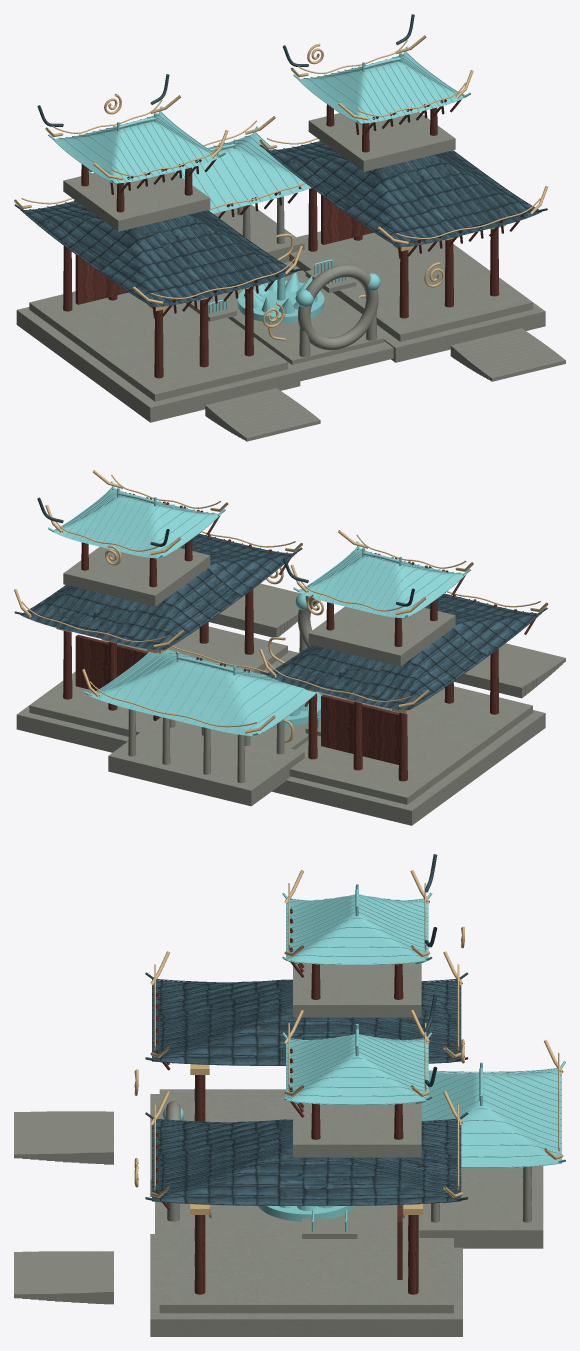
File: QY-GEOGRAPHY-001-R66-region-05-native.glb
3 views of the same model, one above another, from view 1: azimuth 30°, elevation 25°; view 2: azimuth 150°, elevation 25°; view 3: azimuth 270°, elevation 25° (orthographic). The views are drawn at different scales.
Visible parts, largest first — view 1: 05_RIGHT_LARGE_CELADON_CURVED_ROOF_CURVED_CELADON_ROOF_REAL_, 05_LEFT_LARGE_CELADON_CURVED_ROOF_CURVED_CELADON_ROOF_REAL_T, 05_WING_CARVED_COURT_TERRACE, 05_WING_CARVED_COURT_TERRACE.001, 05_UPPER_JADE_SKY_PAVILION_TILED_EAVES_CURVED_CELADON_ROOF_R (×2), 05_WING_IVORY_HIPPED_STONE_FOUNDATION.001, 05_UPPER_STUDIO_IVORY_BALCONY.001, 05_REAR_ARCHIVE_JADE_BLUE_CROSSED_HIP_ROOF_CURVED_CELADON_RO, 05_UPPER_STUDIO_IVORY_BALCONY, 05_COURT_WHITE_STONE_PERIMETER, 05_WING_IVORY_HIPPED_STONE_FOUNDATION, 05_GENUINE_OPEN_STONE_MOON_GATE_FRONT (+15 smaller); view 2: 05_UPPER_JADE_SKY_PAVILION_TILED_EAVES_CURVED_CELADON_ROOF_R (×2), 05_WING_CARVED_COURT_TERRACE, 05_LEFT_LARGE_CELADON_CURVED_ROOF_CURVED_CELADON_ROOF_REAL_T, 05_RIGHT_LARGE_CELADON_CURVED_ROOF_CURVED_CELADON_ROOF_REAL_, 05_REAR_ARCHIVE_JADE_BLUE_CROSSED_HIP_ROOF_CURVED_CELADON_RO, 05_SOUTH_ARCHIVE_STONE_PODIUM, 05_WING_CARVED_COURT_TERRACE.001, 05_WING_IVORY_HIPPED_STONE_FOUNDATION.001, 05_UPPER_STUDIO_IVORY_BALCONY, 05_UPPER_STUDIO_IVORY_BALCONY.001, 05_WING_RECESSED_WOODEN_BACK_WALL.001, 05_WING_IVORY_HIPPED_STONE_FOUNDATION (+11 smaller); view 3: 05_WING_CARVED_COURT_TERRACE.001, 05_RIGHT_LARGE_CELADON_CURVED_ROOF_CURVED_CELADON_ROOF_REAL_, 05_UPPER_JADE_SKY_PAVILION_TILED_EAVES_CURVED_CELADON_ROOF_R (×2), 05_LEFT_LARGE_CELADON_CURVED_ROOF_CURVED_CELADON_ROOF_REAL_T, 05_REAR_ARCHIVE_JADE_BLUE_CROSSED_HIP_ROOF_CURVED_CELADON_RO, 05_WING_IVORY_HIPPED_STONE_FOUNDATION, 05_SOUTH_ARCHIVE_STONE_PODIUM, 05_UPPER_STUDIO_IVORY_BALCONY.001, 05_UPPER_STUDIO_IVORY_BALCONY, 05_COURT_WHITE_STONE_PERIMETER, 05_WING_CARVED_COURT_TERRACE, 05_GARDEN_ACTUAL_STONE_WALKWAY.001 (+3 smaller).
Part boxes in pixels (x1,y1,x2,y2): 05_RIGHT_LARGE_CELADON_CURVED_ROOF_CURVED_CELADON_ROOF_REAL_: (269, 141, 541, 247); 05_LEFT_LARGE_CELADON_CURVED_ROOF_CURVED_CELADON_ROOF_REAL_T: (24, 201, 295, 306); 05_WING_CARVED_COURT_TERRACE: (29, 291, 287, 401); 05_WING_CARVED_COURT_TERRACE.001: (289, 231, 532, 341); 05_UPPER_JADE_SKY_PAVILION_TILED_EAVES_CURVED_CELADON_ROOF_R (×2): (54, 53, 466, 183); 05_WING_IVORY_HIPPED_STONE_FOUNDATION.001: (16, 307, 300, 422); 05_UPPER_STUDIO_IVORY_BALCONY.001: (308, 112, 455, 171); 05_REAR_ARCHIVE_JADE_BLUE_CROSSED_HIP_ROOF_CURVED_CELADON_RO: (174, 133, 311, 213); 05_UPPER_STUDIO_IVORY_BALCONY: (63, 172, 210, 231); 05_COURT_WHITE_STONE_PERIMETER: (217, 274, 384, 364); 05_WING_IVORY_HIPPED_STONE_FOUNDATION: (283, 253, 545, 362); 05_GENUINE_OPEN_STONE_MOON_GATE_FRONT: (298, 264, 378, 350); 05_UPPER_JADE_SKY_PAVILION_TILED_EAVES_CURVED_CELADON_ROOF_R (×2): (53, 488, 464, 617); 05_WING_CARVED_COURT_TERRACE: (289, 686, 532, 804); 05_LEFT_LARGE_CELADON_CURVED_ROOF_CURVED_CELADON_ROOF_REAL_T: (266, 593, 538, 710); 05_RIGHT_LARGE_CELADON_CURVED_ROOF_CURVED_CELADON_ROOF_REAL_: (21, 533, 293, 650); 05_REAR_ARCHIVE_JADE_BLUE_CROSSED_HIP_ROOF_CURVED_CELADON_RO: (89, 649, 316, 736); 05_SOUTH_ARCHIVE_STONE_PODIUM: (108, 717, 304, 806); 05_WING_CARVED_COURT_TERRACE.001: (29, 626, 287, 736); 05_WING_IVORY_HIPPED_STONE_FOUNDATION.001: (272, 710, 545, 825); 05_UPPER_STUDIO_IVORY_BALCONY: (308, 606, 455, 666); 05_UPPER_STUDIO_IVORY_BALCONY.001: (63, 547, 210, 606); 05_WING_RECESSED_WOODEN_BACK_WALL.001: (321, 694, 399, 764); 05_WING_IVORY_HIPPED_STONE_FOUNDATION: (16, 650, 298, 752); 05_WING_CARVED_COURT_TERRACE.001: (159, 1229, 453, 1313); 05_RIGHT_LARGE_CELADON_CURVED_ROOF_CURVED_CELADON_ROOF_REAL_: (152, 1119, 461, 1205); 05_UPPER_JADE_SKY_PAVILION_TILED_EAVES_CURVED_CELADON_ROOF_R (×2): (286, 894, 428, 1104); 05_LEFT_LARGE_CELADON_CURVED_ROOF_CURVED_CELADON_ROOF_REAL_T: (152, 979, 461, 1065); 05_REAR_ARCHIVE_JADE_BLUE_CROSSED_HIP_ROOF_CURVED_CELADON_RO: (421, 1069, 561, 1167); 05_WING_IVORY_HIPPED_STONE_FOUNDATION: (150, 1234, 462, 1336); 05_SOUTH_ARCHIVE_STONE_PODIUM: (419, 1166, 543, 1248); 05_UPPER_STUDIO_IVORY_BALCONY.001: (293, 1102, 421, 1157); 05_UPPER_STUDIO_IVORY_BALCONY: (293, 962, 421, 1017); 05_COURT_WHITE_STONE_PERIMETER: (173, 1203, 419, 1229); 05_WING_CARVED_COURT_TERRACE: (159, 1089, 292, 1122); 05_GARDEN_ACTUAL_STONE_WALKWAY.001: (302, 1218, 357, 1238).
Size of the model in its own units: 122 by 63.27 by 120.
Materials: 5 (3 with a texture image).
